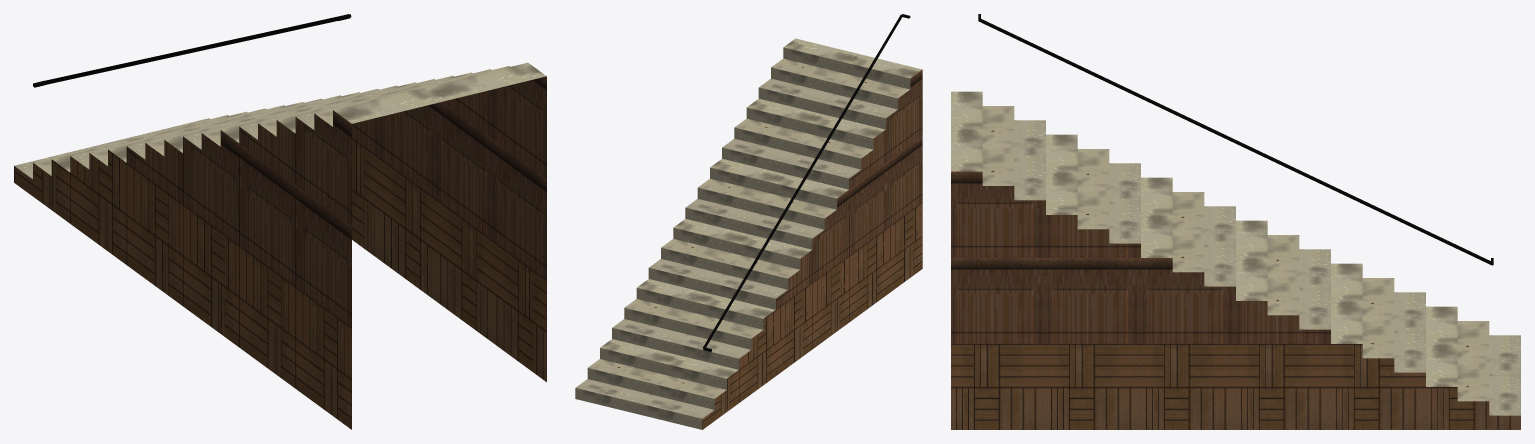
File: SM_stairs_cellar.fbx
The picture shows the model from 3 angles, left to right: view 1: azimuth 30°, elevation 25°; view 2: azimuth 150°, elevation 25°; view 3: azimuth 270°, elevation 25°; orthographic projection. The views are drawn at different scales.
Parts seen in each view (by area): view 1: stairs_cellar_step18, stairs_cellar_step17, stairs_cellar_step16, stairs_cellar_step15, stairs_cellar_step14, stairs_cellar_step13, stairs_cellar_step12, stairs_cellar_step11, stairs_cellar_step10, stairs_cellar_step09, stairs_cellar_step08, stairs_cellar_step07 (+7 smaller); view 2: stairs_cellar_step18, stairs_cellar_step17, stairs_cellar_step15, stairs_cellar_step16, stairs_cellar_step14, stairs_cellar_step13, stairs_cellar_step12, stairs_cellar_step11, stairs_cellar_step10, stairs_cellar_step09, stairs_cellar_step08, stairs_cellar_step07 (+7 smaller); view 3: stairs_cellar_step18, stairs_cellar_step17, stairs_cellar_step16, stairs_cellar_step15, stairs_cellar_step14, stairs_cellar_step13, stairs_cellar_step12, stairs_cellar_step11, stairs_cellar_step10, stairs_cellar_step09, stairs_cellar_step08, stairs_cellar_step07 (+7 smaller).
Part boxes in pixels (left/top/right/bottom): stairs_cellar_step18: left=333, top=62, right=546, bottom=429; stairs_cellar_step17: left=314, top=66, right=527, bottom=415; stairs_cellar_step16: left=295, top=69, right=509, bottom=401; stairs_cellar_step15: left=276, top=72, right=490, bottom=388; stairs_cellar_step14: left=258, top=75, right=471, bottom=374; stairs_cellar_step13: left=239, top=79, right=452, bottom=360; stairs_cellar_step12: left=220, top=82, right=434, bottom=346; stairs_cellar_step11: left=201, top=85, right=415, bottom=333; stairs_cellar_step10: left=183, top=89, right=396, bottom=319; stairs_cellar_step09: left=164, top=92, right=377, bottom=305; stairs_cellar_step08: left=145, top=95, right=359, bottom=292; stairs_cellar_step07: left=126, top=98, right=322, bottom=278; stairs_cellar_step18: left=783, top=38, right=922, bottom=277; stairs_cellar_step17: left=771, top=58, right=910, bottom=286; stairs_cellar_step15: left=746, top=98, right=885, bottom=304; stairs_cellar_step16: left=758, top=78, right=897, bottom=295; stairs_cellar_step14: left=734, top=118, right=873, bottom=313; stairs_cellar_step13: left=722, top=138, right=861, bottom=321; stairs_cellar_step12: left=710, top=158, right=849, bottom=331; stairs_cellar_step11: left=697, top=179, right=836, bottom=339; stairs_cellar_step10: left=685, top=199, right=824, bottom=348; stairs_cellar_step09: left=673, top=219, right=812, bottom=357; stairs_cellar_step08: left=661, top=239, right=800, bottom=366; stairs_cellar_step07: left=648, top=259, right=787, bottom=375; stairs_cellar_step18: left=951, top=91, right=982, bottom=429; stairs_cellar_step17: left=982, top=106, right=1014, bottom=429; stairs_cellar_step16: left=1014, top=120, right=1045, bottom=429; stairs_cellar_step15: left=1046, top=134, right=1077, bottom=429; stairs_cellar_step14: left=1077, top=149, right=1109, bottom=429; stairs_cellar_step13: left=1109, top=163, right=1140, bottom=429; stairs_cellar_step12: left=1141, top=177, right=1172, bottom=429; stairs_cellar_step11: left=1172, top=192, right=1204, bottom=429; stairs_cellar_step10: left=1204, top=206, right=1235, bottom=429; stairs_cellar_step09: left=1236, top=220, right=1267, bottom=429; stairs_cellar_step08: left=1267, top=235, right=1299, bottom=429; stairs_cellar_step07: left=1299, top=249, right=1330, bottom=429.
Size of the model in its own units: 2 by 3.92 by 6.
